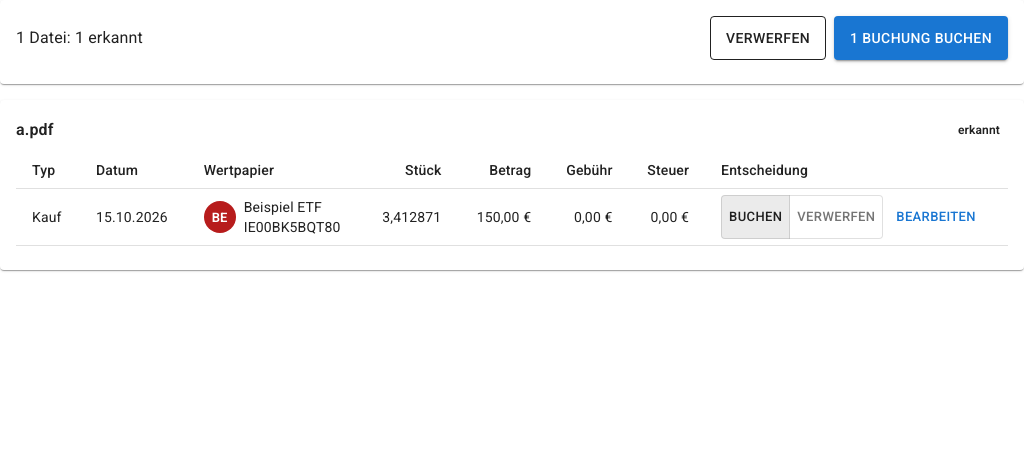
Test: ImportReview › disables booking while an edit row is open
Expected: the button "1 Buchung buchen" is enabled, [834, 16, 1008, 60]
Click the button "Bearbeiten".
click(936, 217)  # box [891, 195, 981, 239]
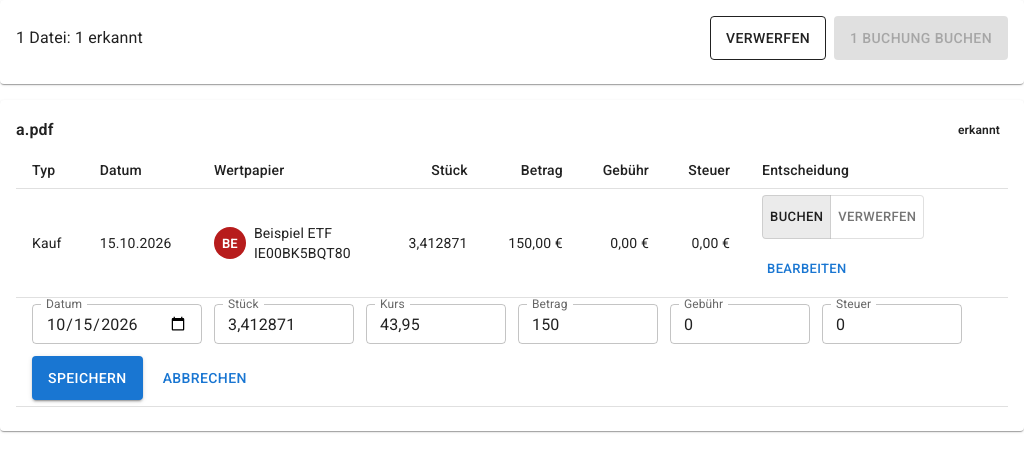
Expected: the button "1 Buchung buchen" is disabled, [834, 16, 1008, 60]
Click the button "Abbrechen".
click(205, 378)  # box [155, 356, 255, 400]
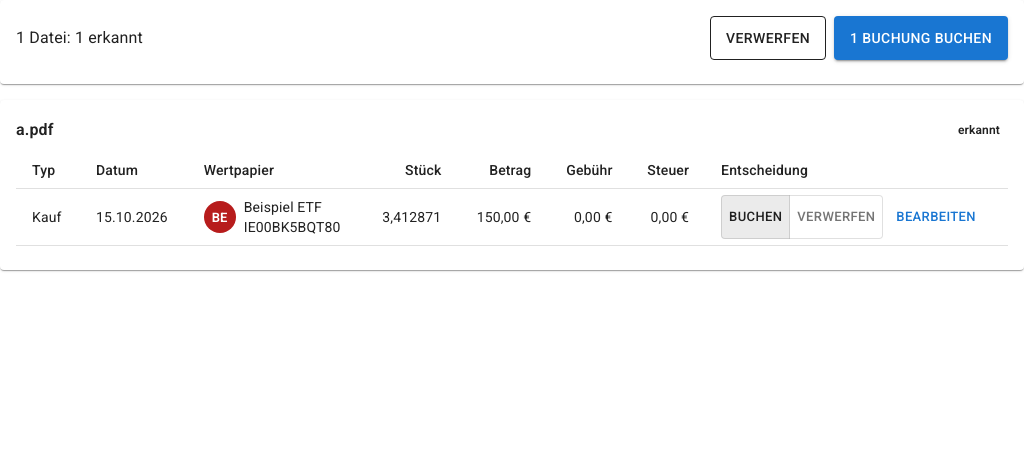
Expected: the button "1 Buchung buchen" is enabled, [834, 16, 1008, 60]
